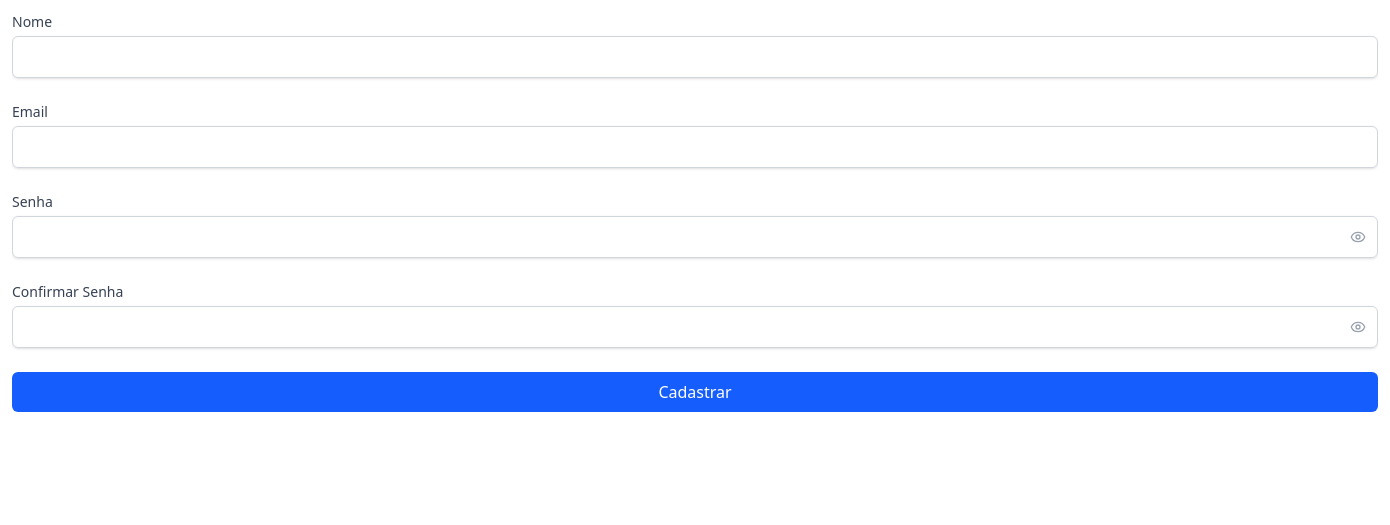
RegisterForm › validates minimum password length
This screenshot has width=1390, height=525.
Type "123" into the field labelled "Senha" at (695, 237), box [12,216,1378,258]
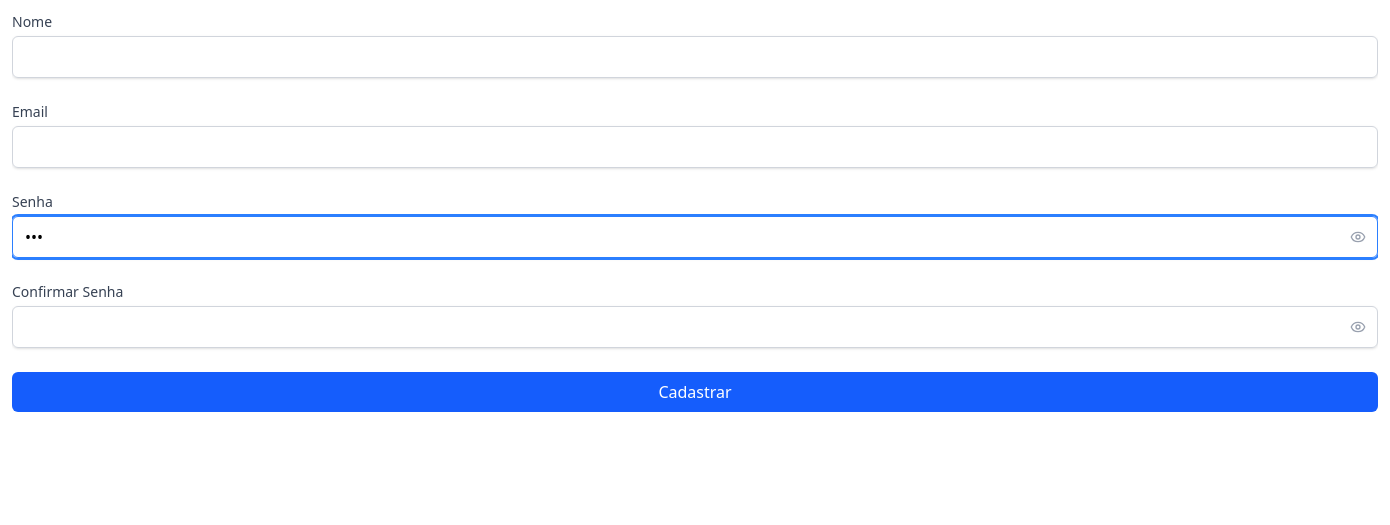
Click the button "Cadastrar" at (695, 392), box [12,372,1378,412]
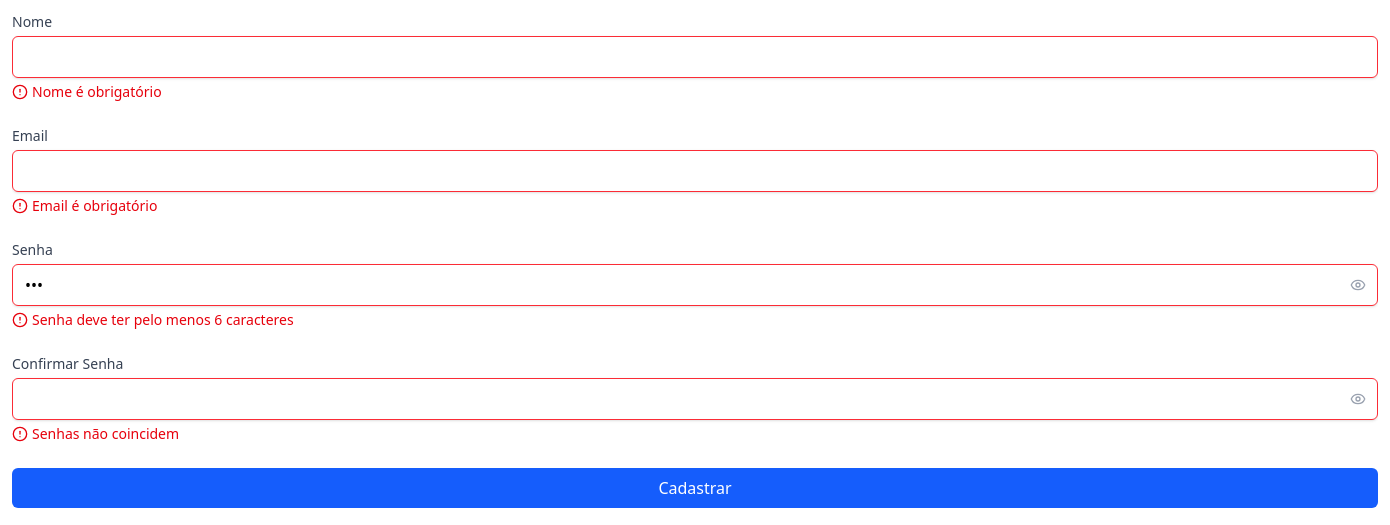
Check: the text "Senha deve ter pelo menos 6 caracteres" is shown, box [12,310,294,329]
